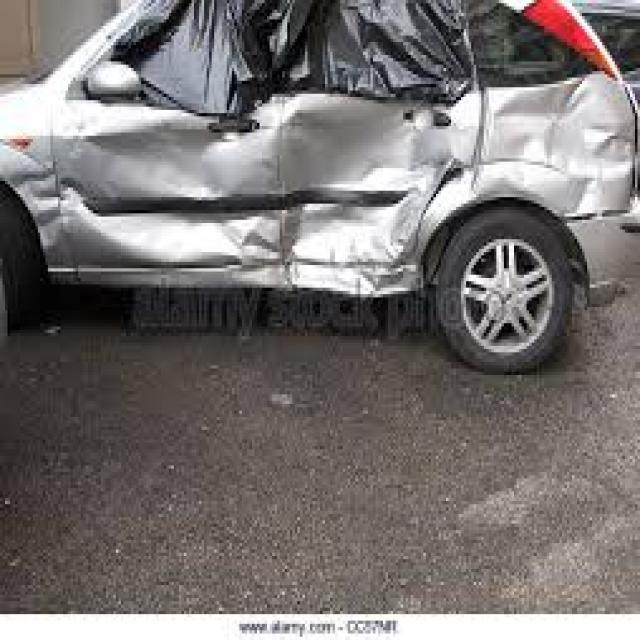moderate: (90, 81, 507, 286)
